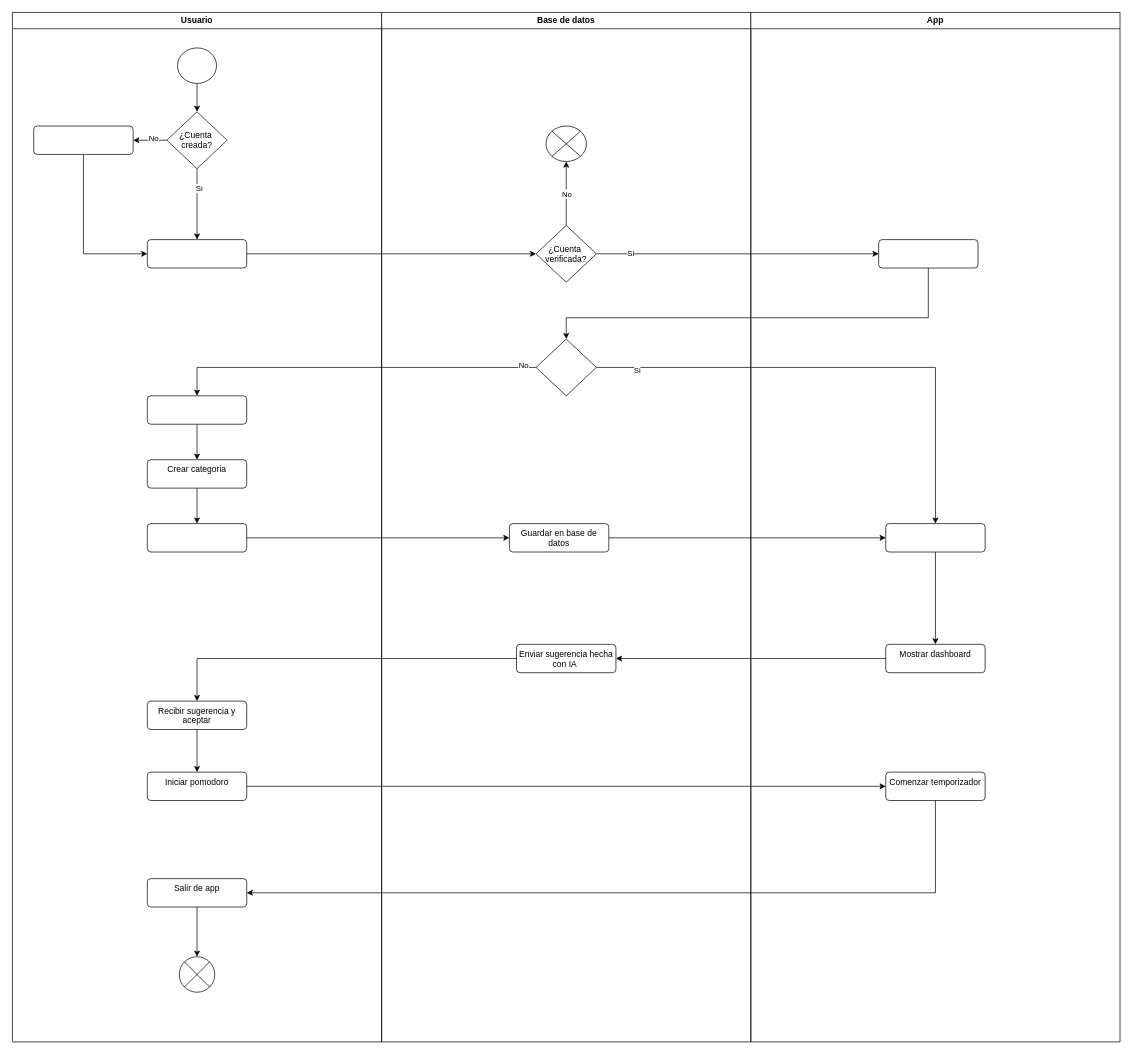
The diagram is 1132 pixels wide and 1054 high, and some of its shapes have lost their labels. Here are the shapes that lost their labels. From the top down, the centre of each, then its label:
the point at 83,139: Crear Cuenta
the point at 197,253: Iniciar Sesion
the point at 928,253: Menu App
the point at 565,367: ¿Habito creado?
the point at 197,409: Crear habito
the point at 197,537: Seleccionar dificultad
the point at 935,537: Mostrar habito en lista
